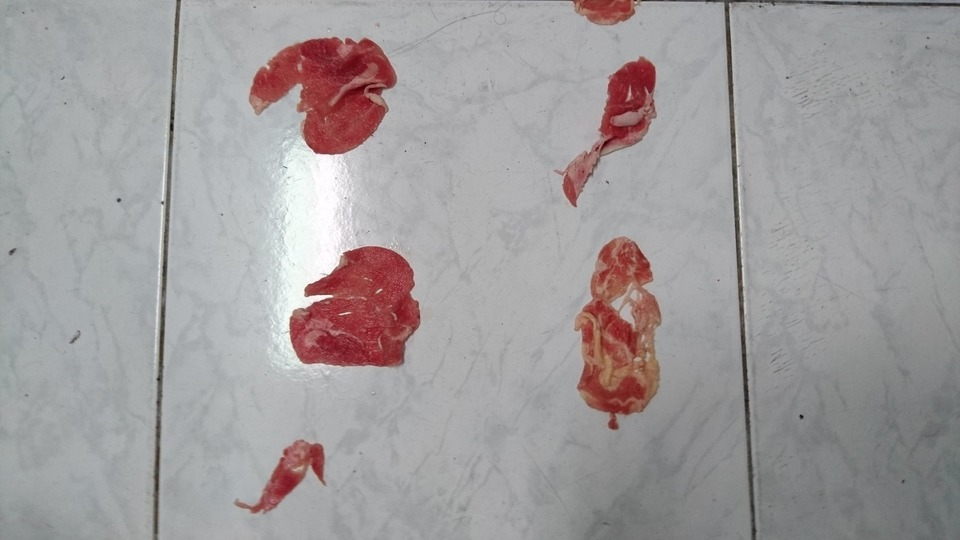restructured meat: (271, 235, 436, 376), (248, 32, 397, 161), (569, 230, 655, 430), (562, 41, 669, 195), (234, 439, 339, 508)
